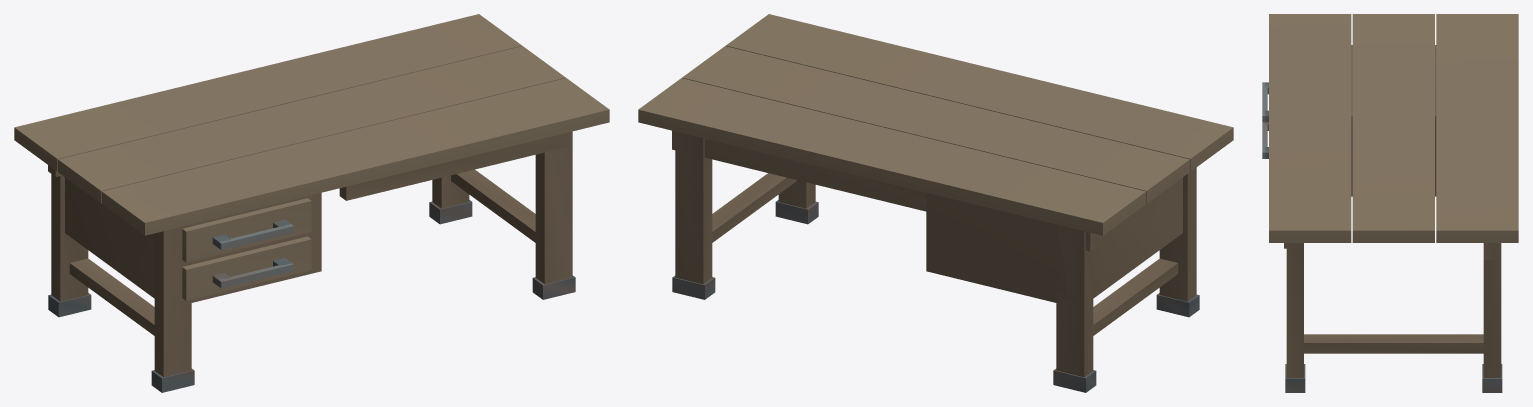
File: desk.glb
3 renders of one model, left to right at view 1: azimuth 30°, elevation 25°; view 2: azimuth 150°, elevation 25°; view 3: azimuth 270°, elevation 25°, orthographic. The views are drawn at different scales.
Visible parts, largest first — view 1: desk; view 2: desk; view 3: desk.
Boxes of the visible parts, box(x1,y1,x2,y2) form: desk: box(14, 14, 609, 392); desk: box(638, 14, 1233, 392); desk: box(1262, 14, 1518, 392).
Size of the model in its own units: 2 by 0.75 by 1.
